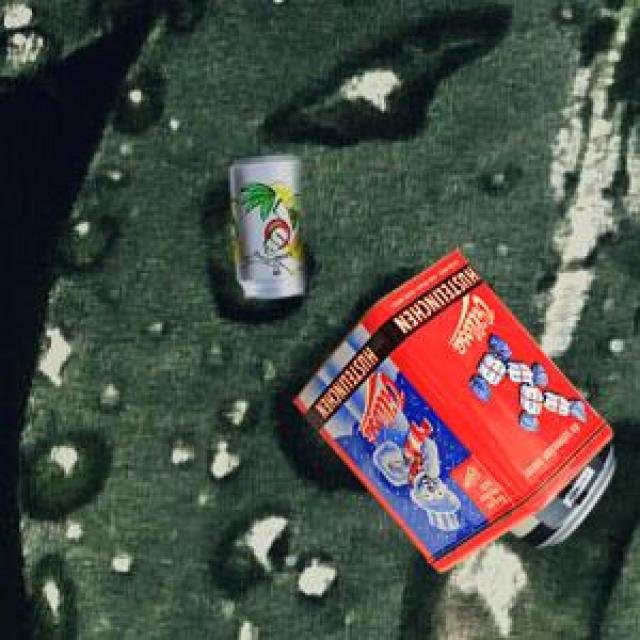logam: (291, 246, 609, 569), (507, 436, 611, 545), (227, 153, 298, 295)
